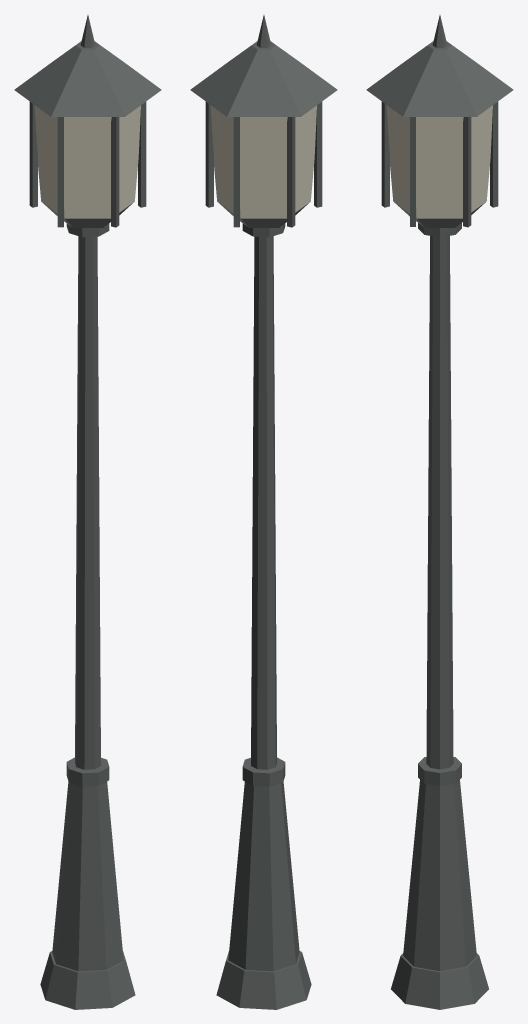
Rendered from lamp_classic.glb.
3 renders of one model, left to right at view 1: azimuth 30°, elevation 25°; view 2: azimuth 150°, elevation 25°; view 3: azimuth 270°, elevation 25°, orthographic.
Size of the model in its own units: 0.5196 by 4.37 by 0.6.
